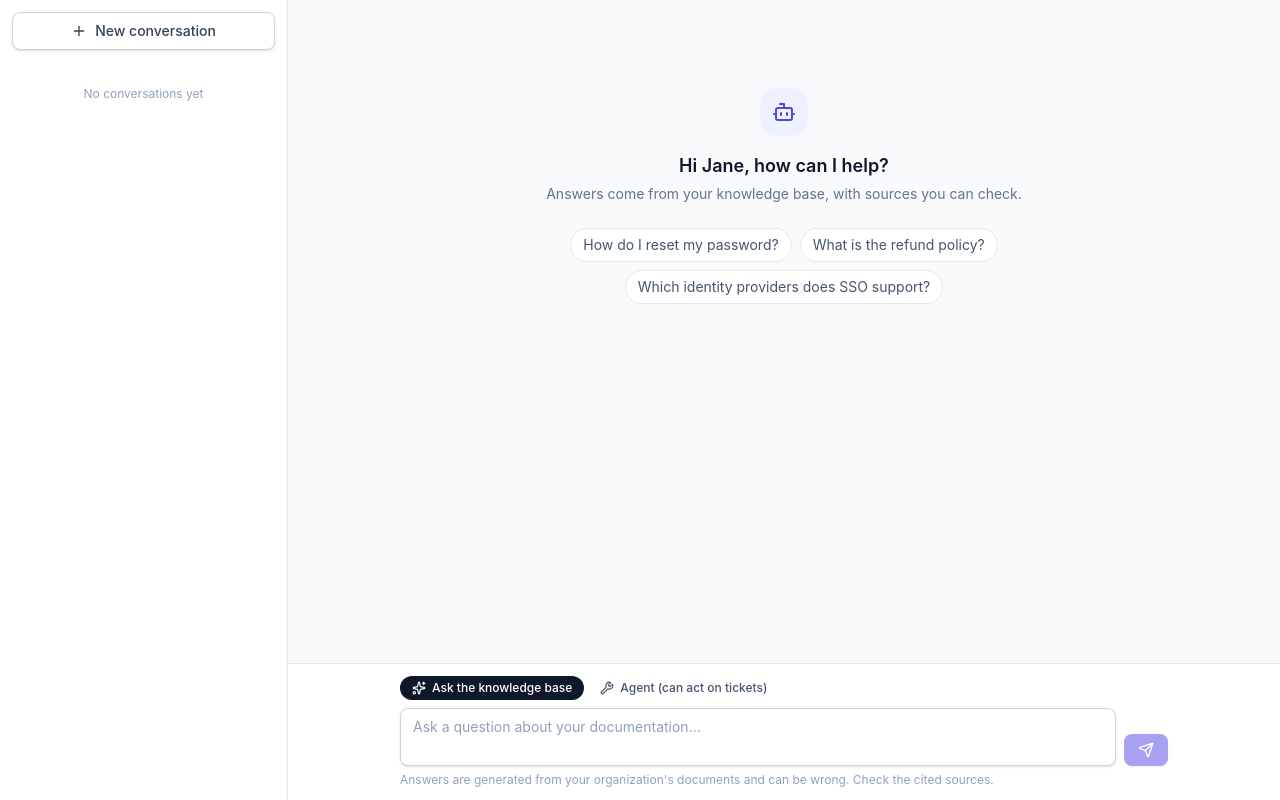
Test: chat › streams an answer and renders citations
This screenshot has width=1280, height=800.
In the text box named "Message": (758, 737) [400,708,1116,766], type "How do I reset?"
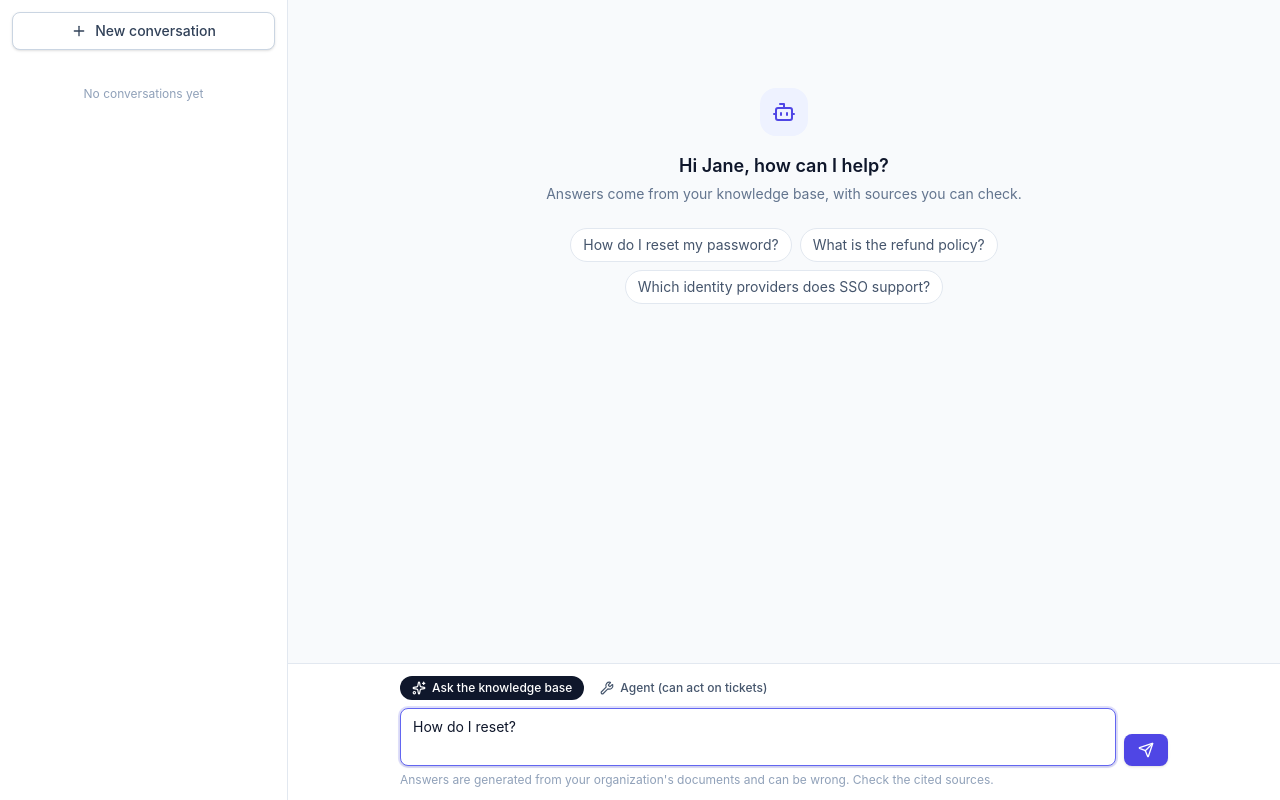
Click the button named "Send": (1146, 750) [1124,734,1168,766]
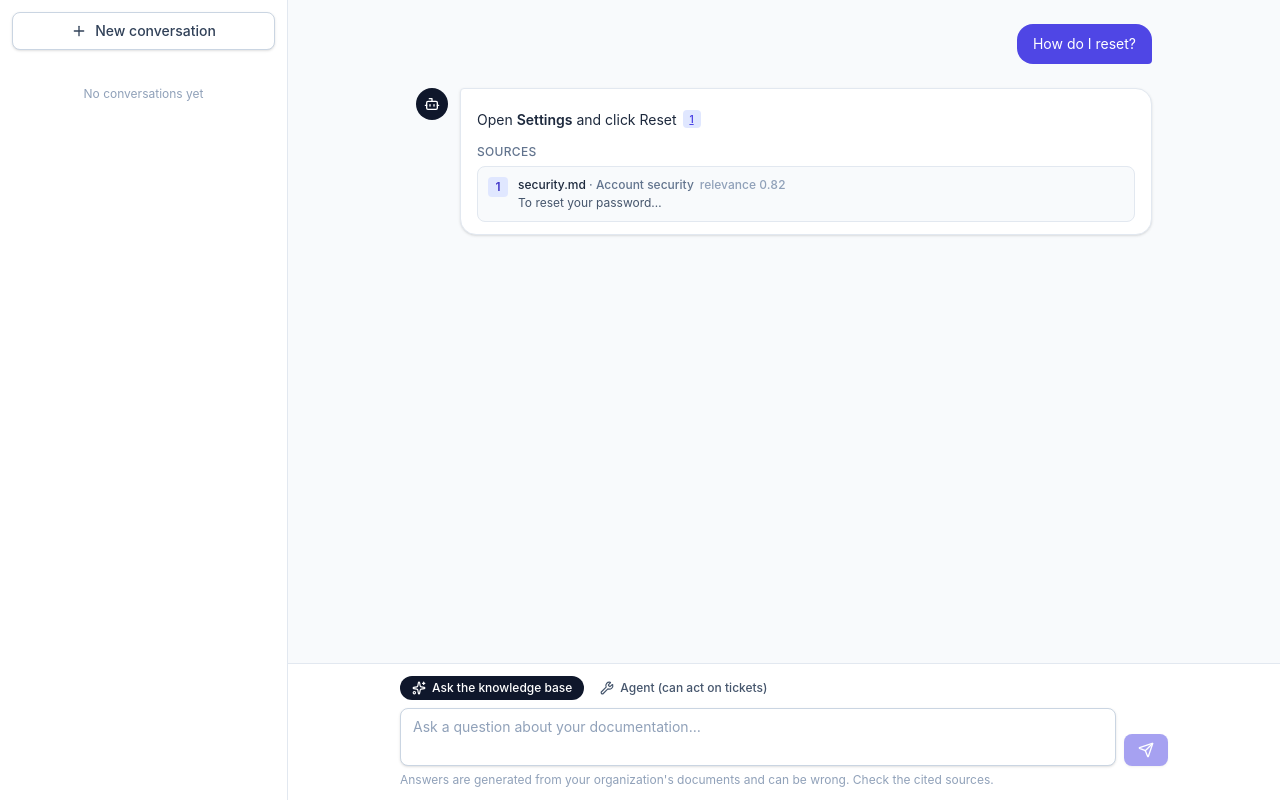
Result: the text "Settings" is shown at [517,111,573,128]
Result: the text "security.md" is shown at [518,177,586,192]
Result: the text "How do I reset?" is shown at [1017,24,1152,64]
